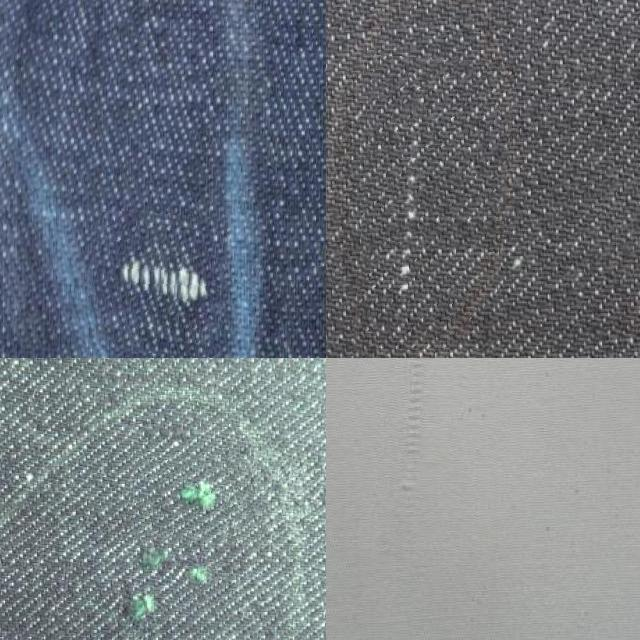stains: (353, 57, 508, 358), (326, 358, 516, 566), (85, 212, 225, 356), (55, 549, 238, 640), (128, 454, 252, 542)
